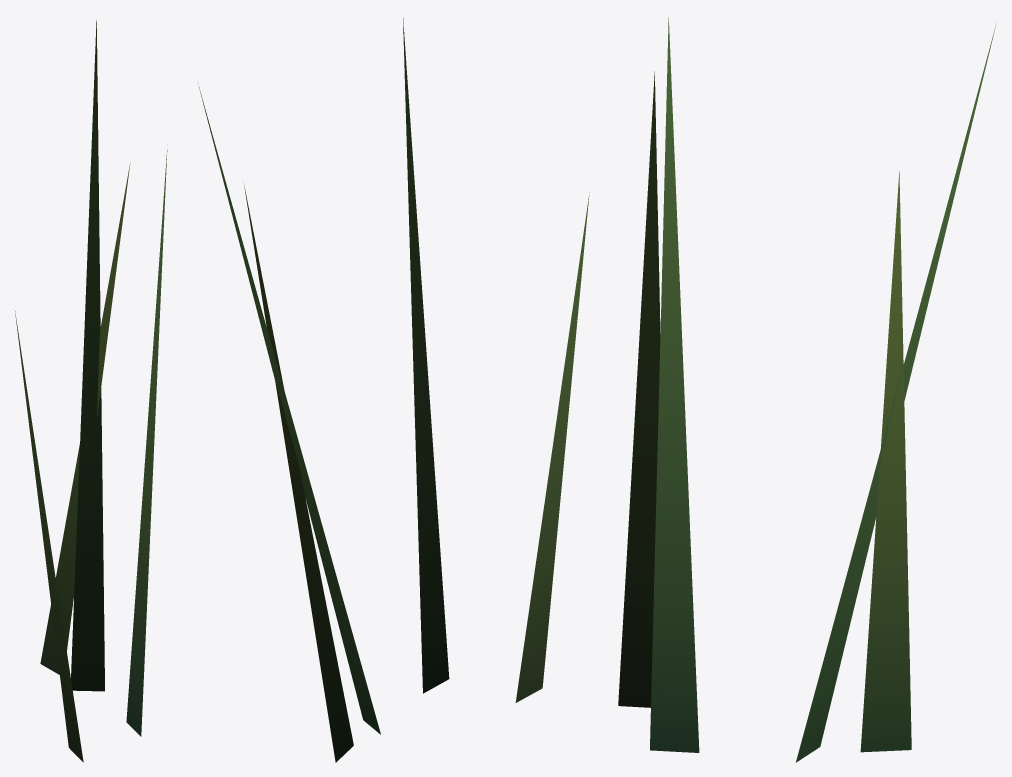
File: sedge-a.lod2.glb
3 renders of one model, left to right at view 1: azimuth 30°, elevation 25°; view 2: azimuth 150°, elevation 25°; view 3: azimuth 270°, elevation 25°, orthographic. The views are drawn at different scales.
Size of the model in its own units: 0.2102 by 0.5679 by 0.2477.
